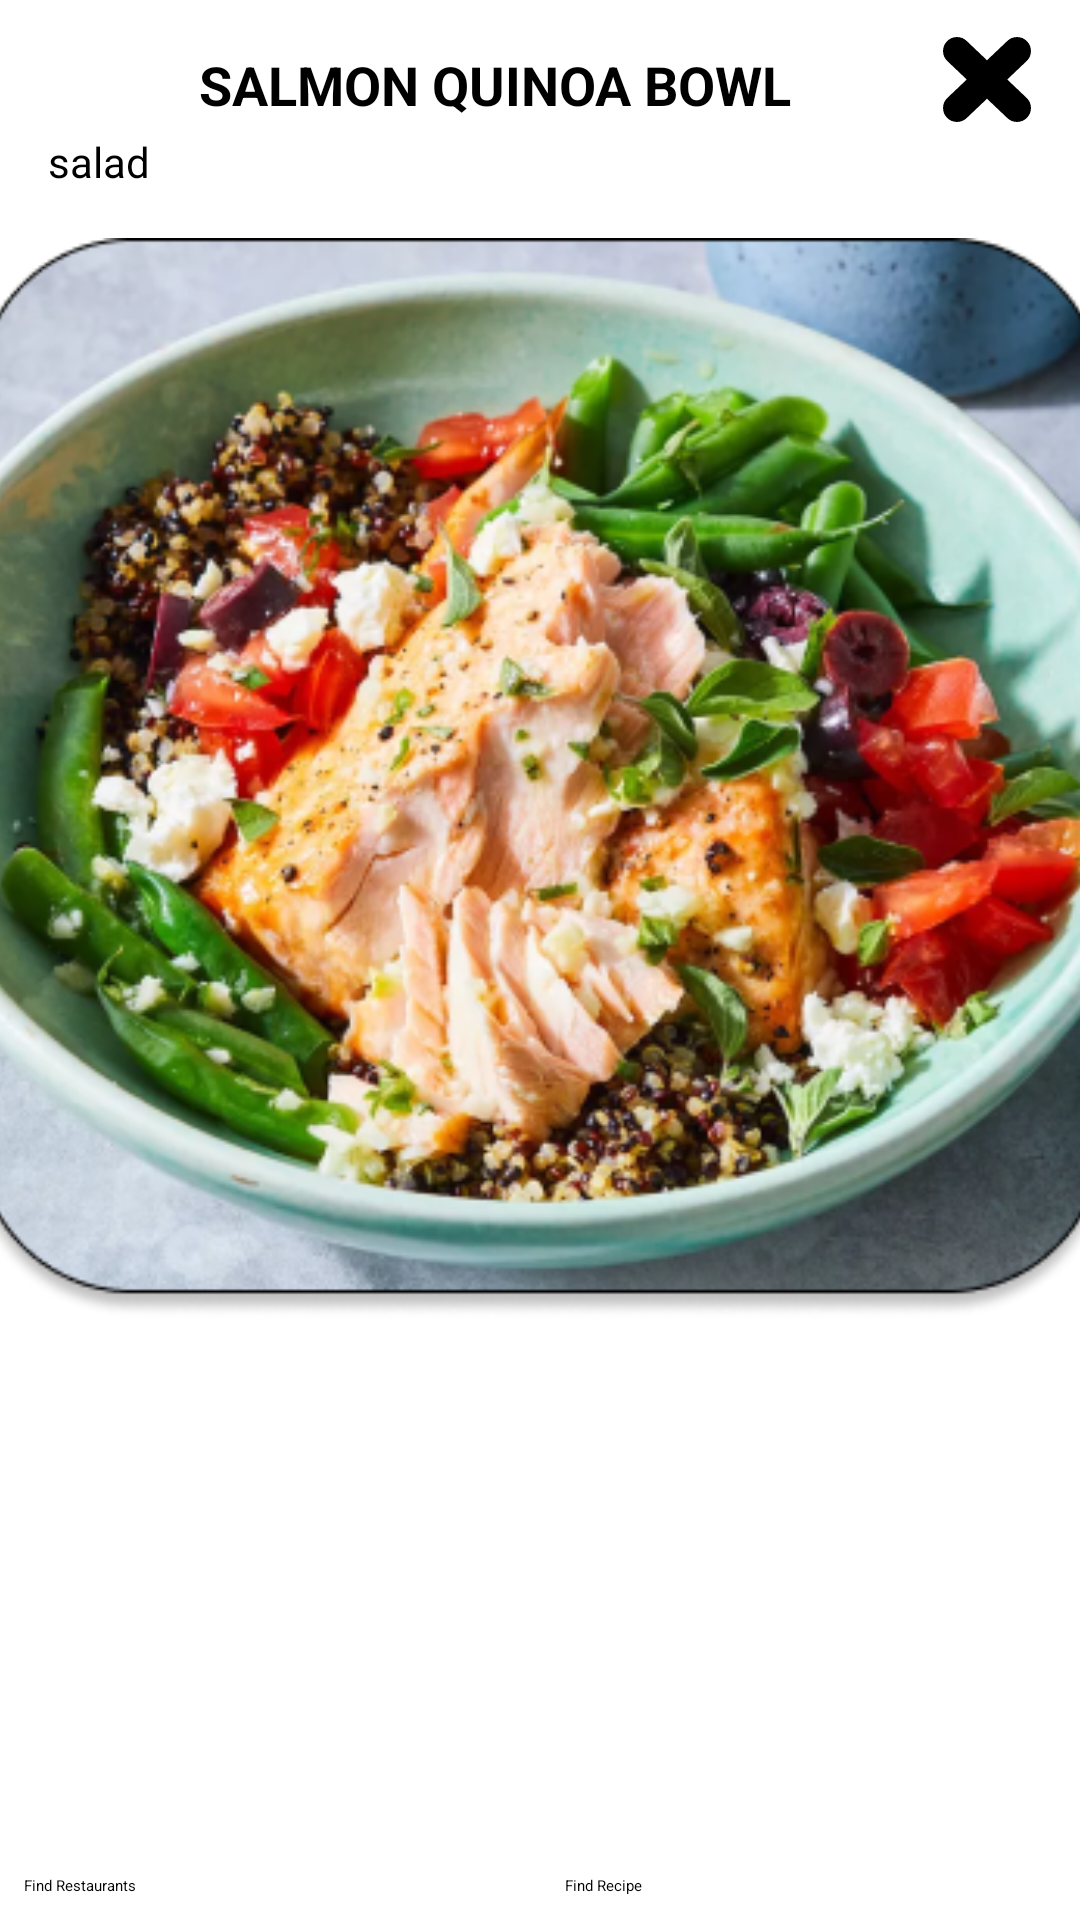

Where to tap for icons on this 1080x1920 app screen, as (x,y):
cancel: (987,79)
